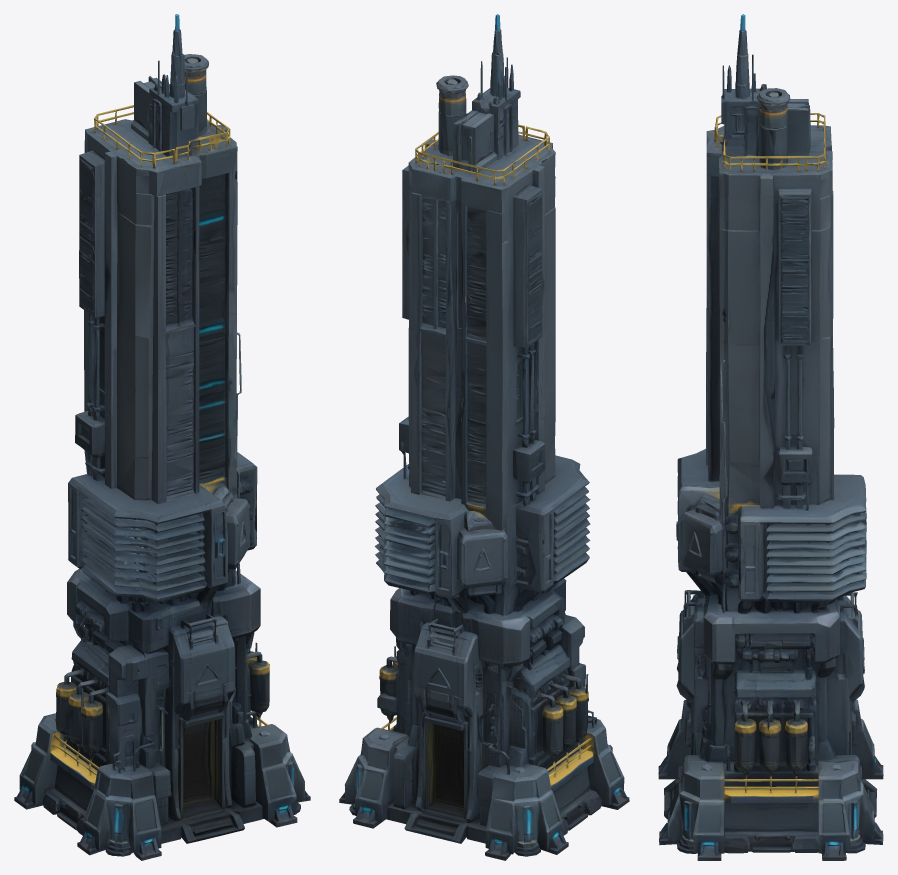
The picture shows the model from 3 angles, left to right: view 1: azimuth 30°, elevation 25°; view 2: azimuth 150°, elevation 25°; view 3: azimuth 270°, elevation 25°; orthographic projection. The views are drawn at different scales.
Visible parts, largest first — view 1: model; view 2: model; view 3: model.
Part boxes in pixels (x1,y1,x2,y2): model: (14,14,310,860); model: (339,14,629,860); model: (658,14,883,860).
Size of the model in its own units: 0.5549 by 1.89 by 0.4874.
1 material, 1 textured.
